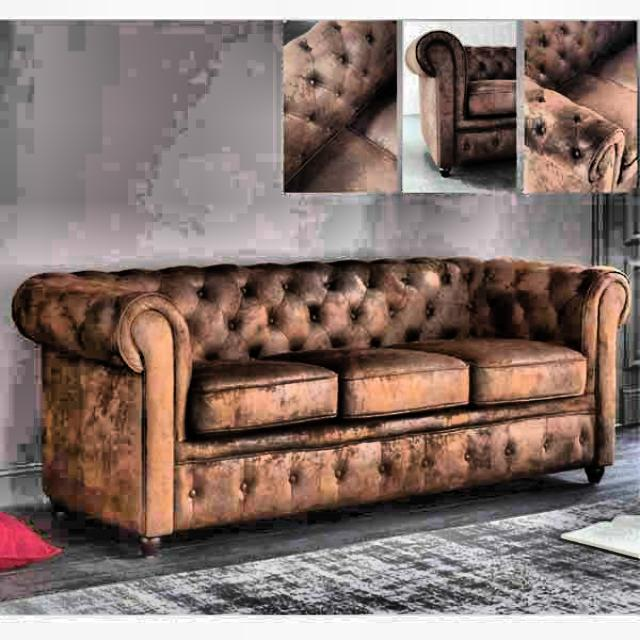sofa: (10, 254, 632, 558), (521, 19, 638, 193), (404, 29, 516, 177)
